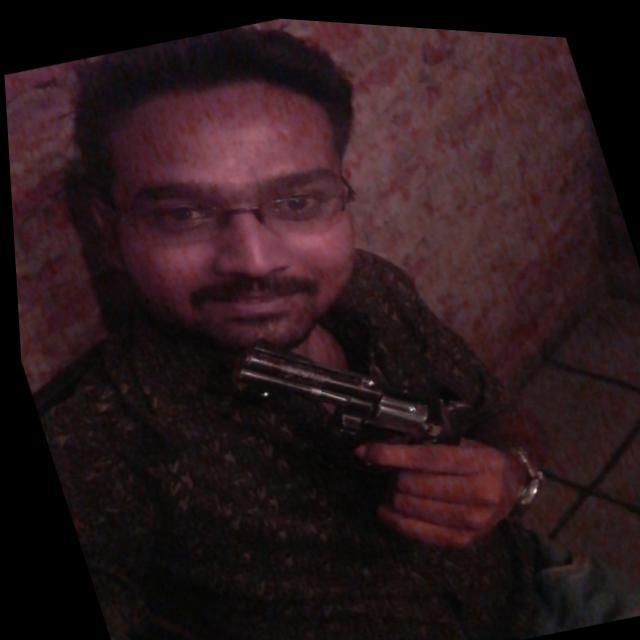weapon: (212, 277, 523, 594)
